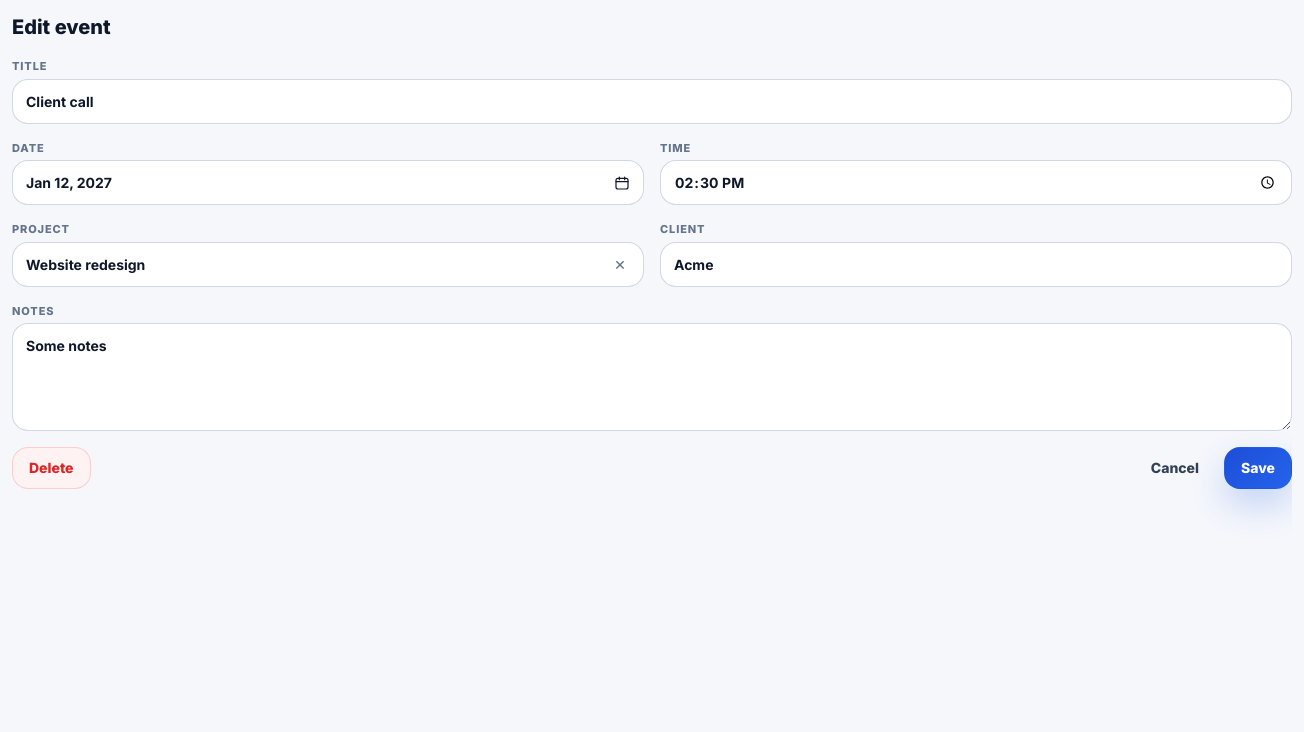
CalendarEventForm — delete flow › cancel confirmation sends no request and keeps the dialog open
The image size is (1304, 732).
What coordinates should you click on to do the following:
click the button "Delete"
I would click on:
 (51, 468)
Its box is [12, 447, 90, 489].
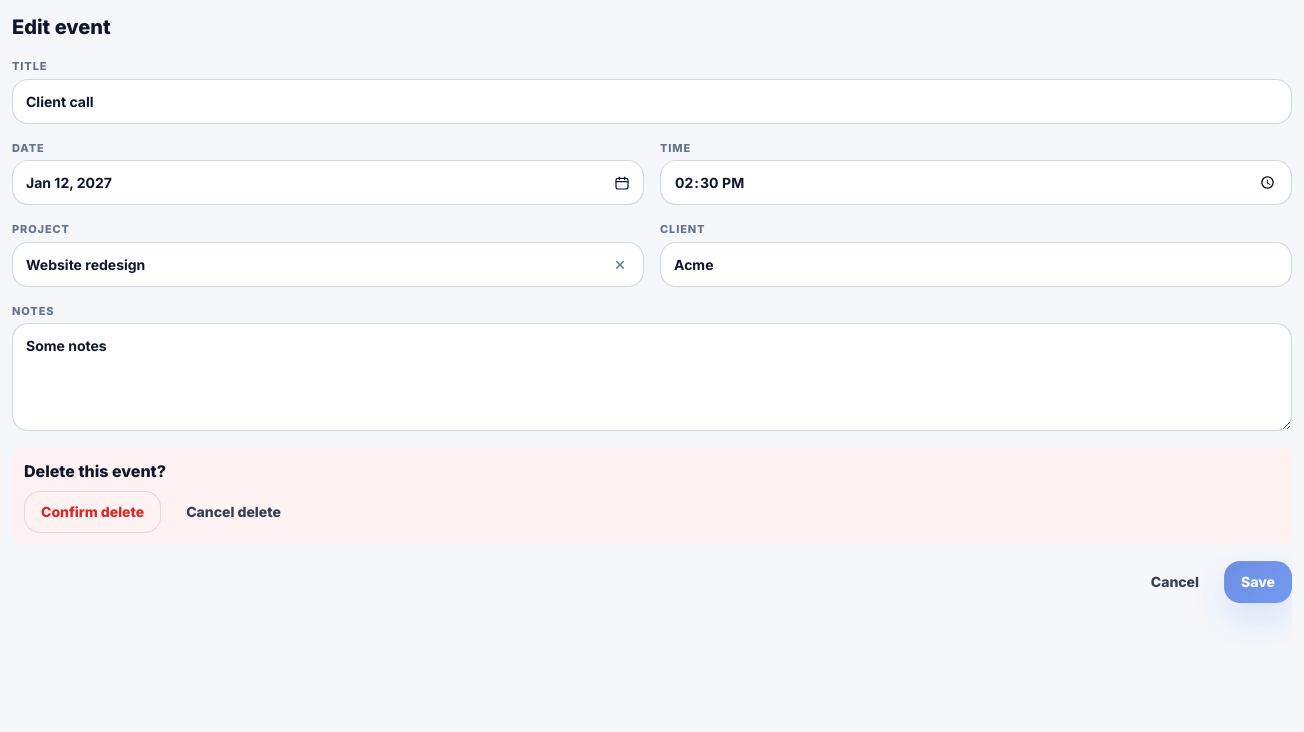
What coordinates should you click on to do the following:
click the button "Cancel delete"
I would click on:
 (234, 512)
Its box is [169, 491, 298, 533].
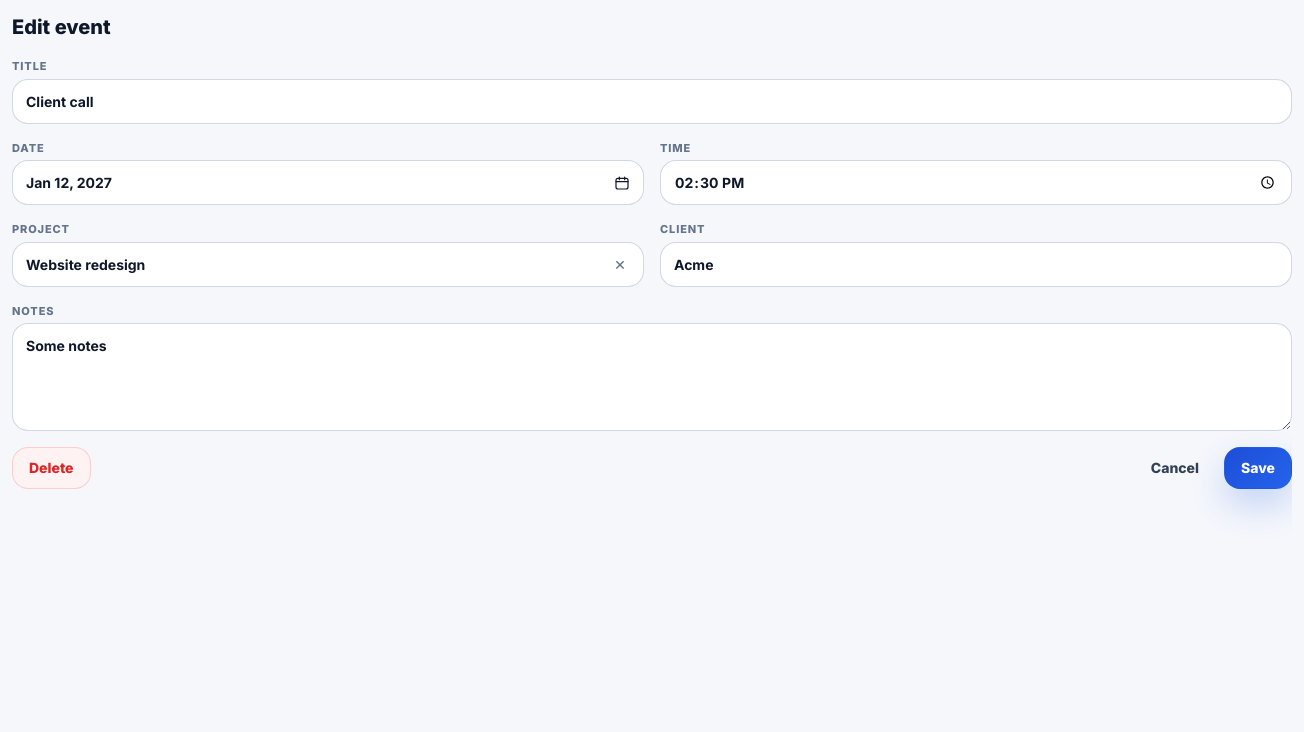
expect the button "Delete" is shown: met, box [12, 447, 90, 489]
expect the text "Delete this event?" is gone: met
